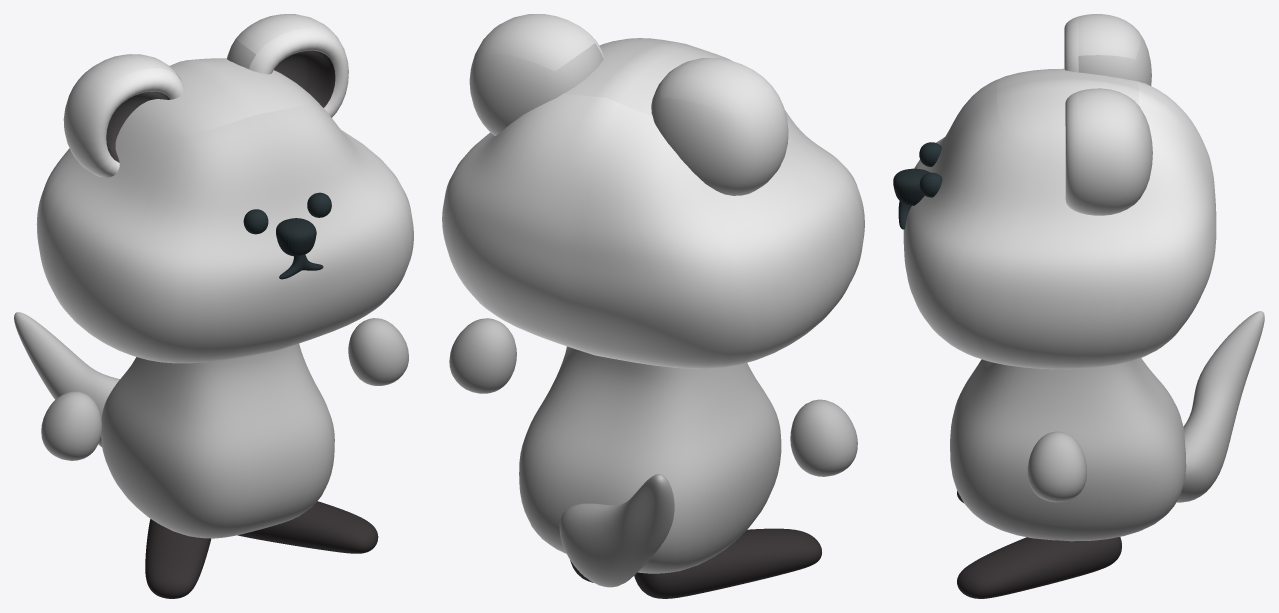
The model's file is npc.fbx.
3 views of the same model, side by side, from view 1: azimuth 30°, elevation 25°; view 2: azimuth 150°, elevation 25°; view 3: azimuth 270°, elevation 25° (orthographic). The views are drawn at different scales.
Visible parts, largest first — view 1: Cube.033; view 2: Cube.033; view 3: Cube.033.
Part boxes in pixels (left/top/right/bottom): Cube.033: left=14, top=14, right=413, bottom=598; Cube.033: left=442, top=14, right=864, bottom=598; Cube.033: left=893, top=14, right=1264, bottom=598.
Bounding box in the file's own units: 216 × 284 × 192.
1 material, 1 textured.
